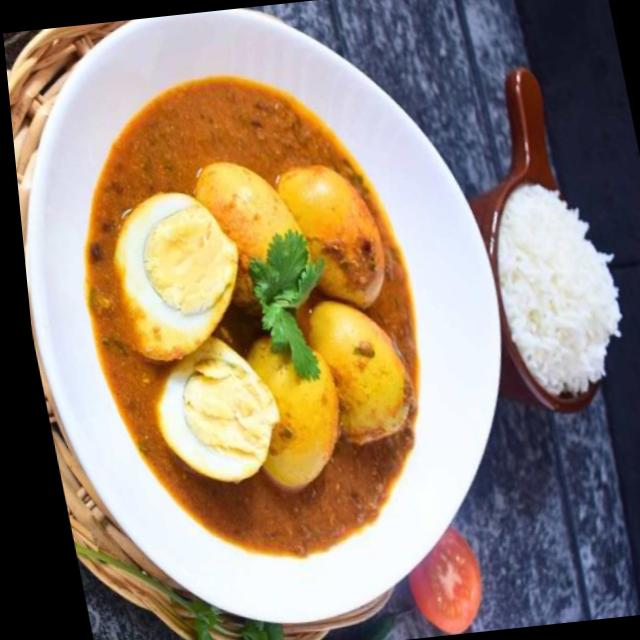EGG: (112, 155, 413, 491)
RICE: (498, 179, 622, 395)
